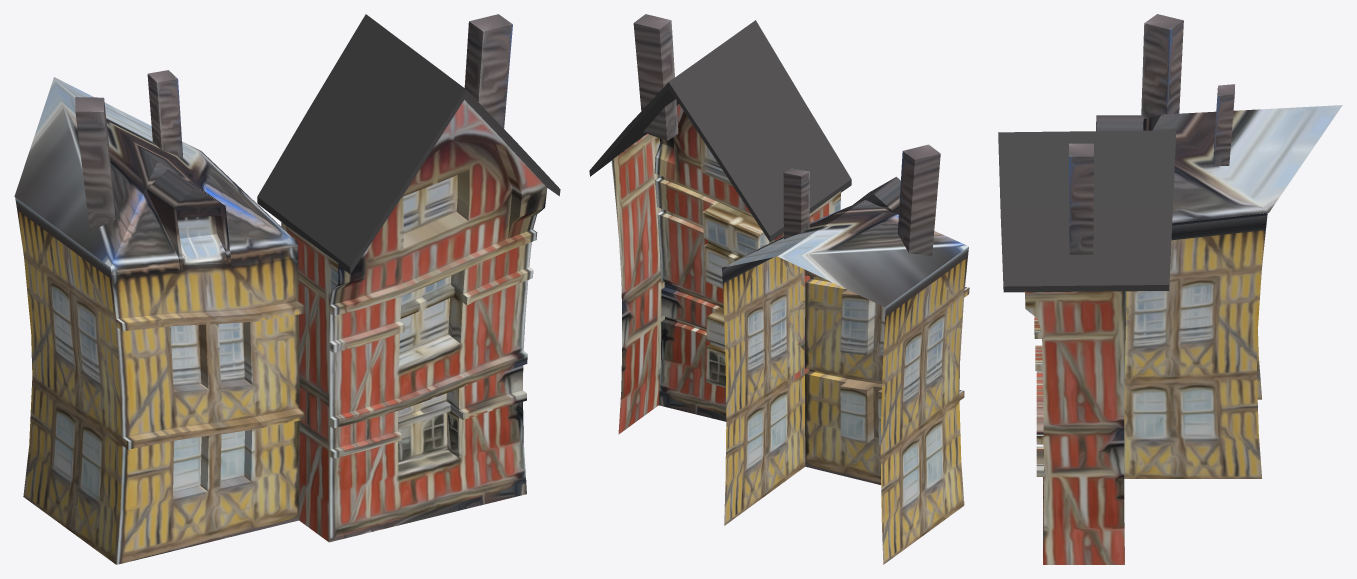
Rendered from House_4.fbx.
The picture shows the model from 3 angles, left to right: view 1: azimuth 30°, elevation 25°; view 2: azimuth 150°, elevation 25°; view 3: azimuth 270°, elevation 25°; orthographic projection. The views are drawn at different scales.
Parts seen in each view (by area): view 1: House_4; view 2: House_4; view 3: House_4.
Part boxes in pixels (bbox=[...]): House_4: bbox=[14, 14, 560, 564]; House_4: bbox=[589, 14, 969, 564]; House_4: bbox=[998, 14, 1342, 564].
Bounding box in the file's own units: 90.87 × 99.97 × 76.45.
